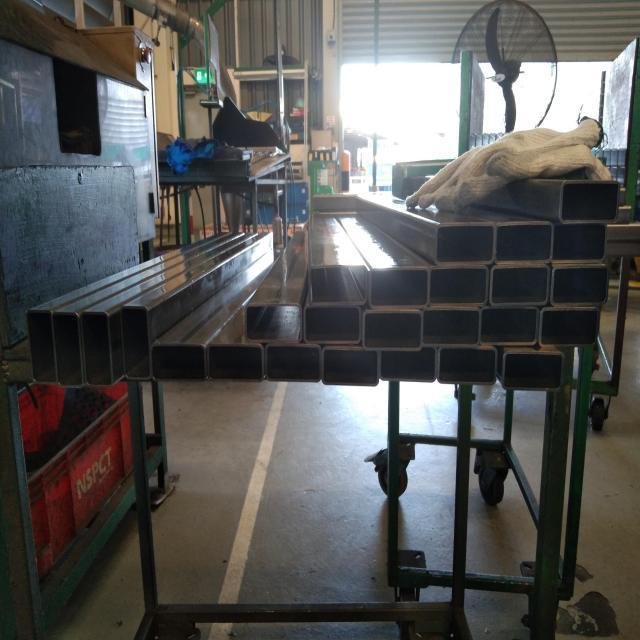pipe: (558, 179, 621, 225), (433, 222, 497, 267), (79, 310, 115, 389), (428, 263, 489, 309), (501, 349, 566, 392), (538, 306, 601, 350), (50, 310, 85, 389), (486, 265, 554, 305), (495, 220, 554, 266), (476, 305, 542, 346), (550, 263, 610, 308), (308, 263, 369, 307), (25, 308, 59, 386), (205, 341, 266, 384), (243, 301, 303, 344), (361, 310, 427, 349), (119, 305, 152, 383), (369, 267, 430, 309), (550, 221, 608, 265), (419, 307, 484, 346), (302, 304, 363, 345), (149, 342, 208, 384), (321, 345, 379, 387), (264, 342, 323, 383), (437, 346, 499, 385), (379, 348, 438, 383)
